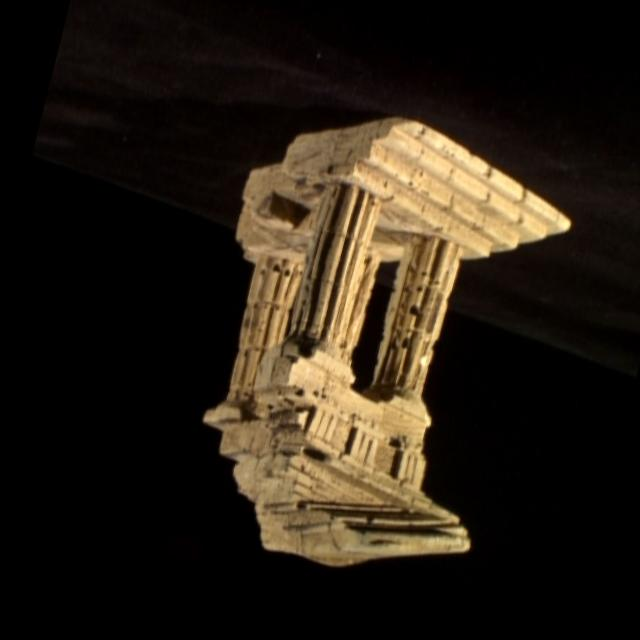Instance-Segmentation: (205, 117, 570, 564)
